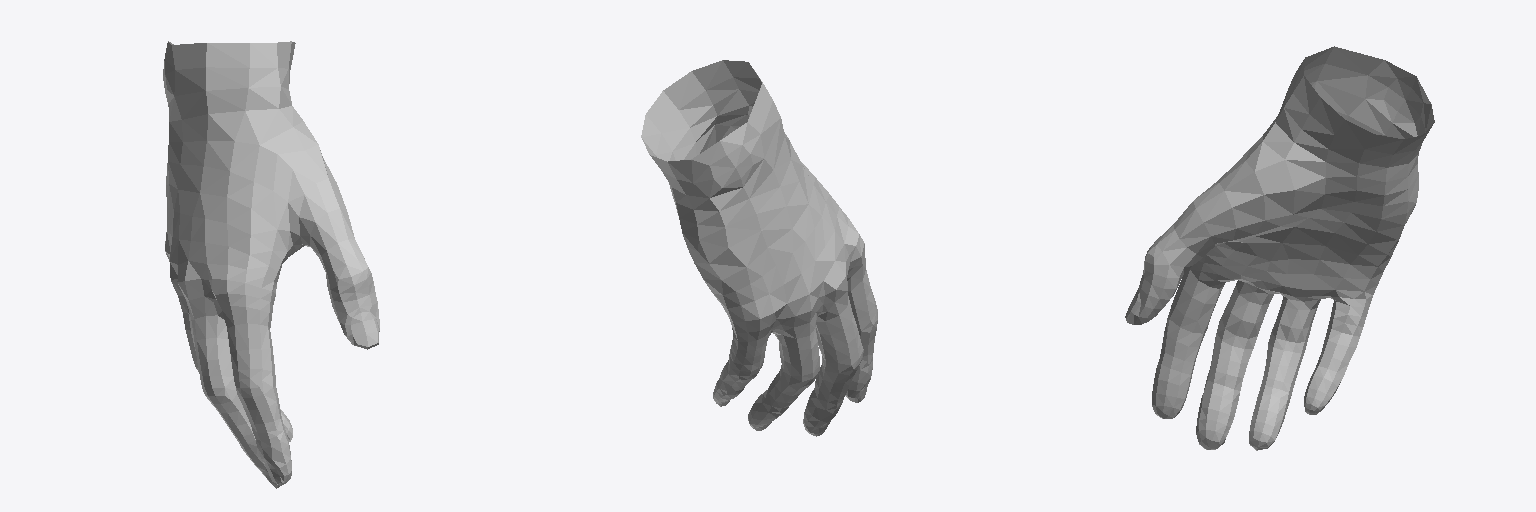
File: HandRight.obj
The picture shows the model from 3 angles: view 1: azimuth 30°, elevation 25°; view 2: azimuth 150°, elevation 25°; view 3: azimuth 270°, elevation 25°; orthographic projection.
Parts seen in each view (by area): view 1: gtn_hand; view 2: gtn_hand; view 3: gtn_hand.
Part boxes in pixels (bbox=[...]): gtn_hand: bbox=[163, 41, 379, 488]; gtn_hand: bbox=[641, 60, 877, 436]; gtn_hand: bbox=[1125, 46, 1434, 450].
Bounding box in the file's own units: 7.41 × 19.08 × 13.27.